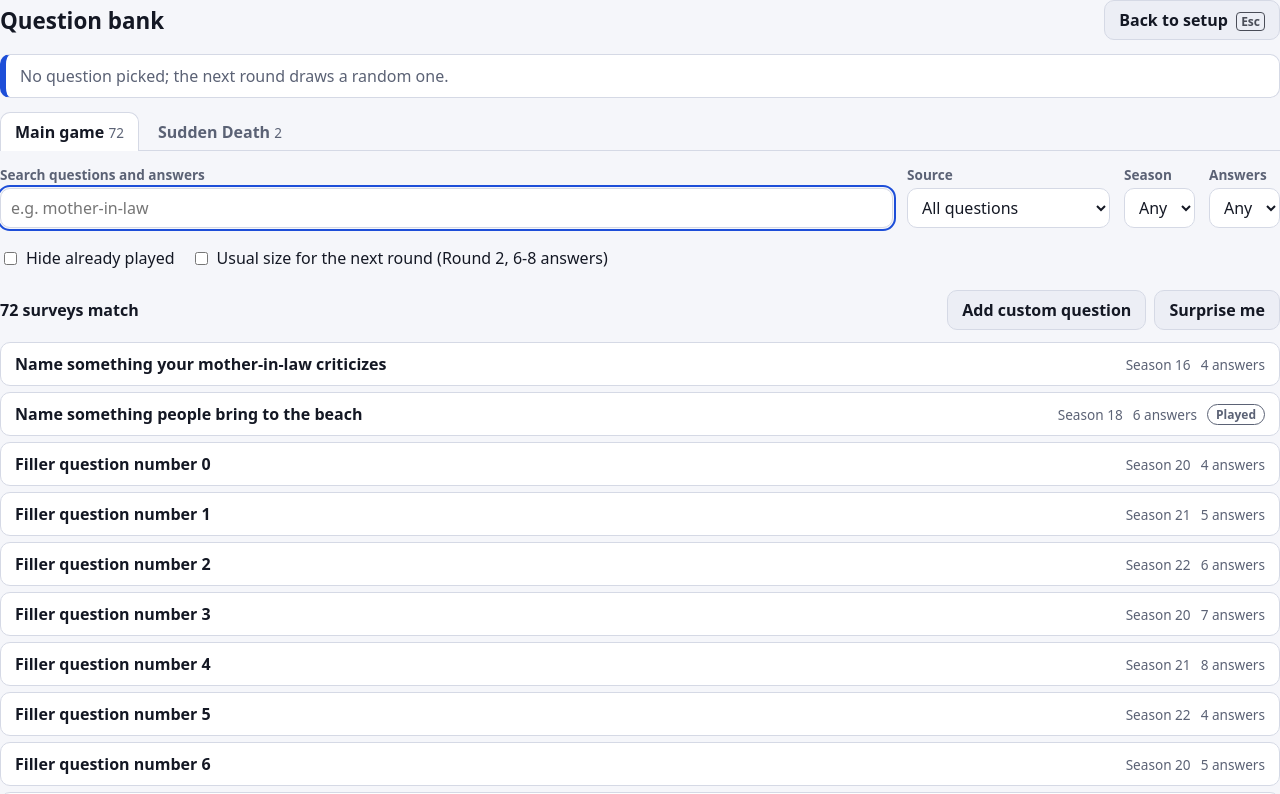
Test: QuestionBrowser › filters by season, answer count, played and fit
The image size is (1280, 794).
Select "16" in the dropdown labelled "Season". click: (1160, 208)
box: [1124,188,1195,228]
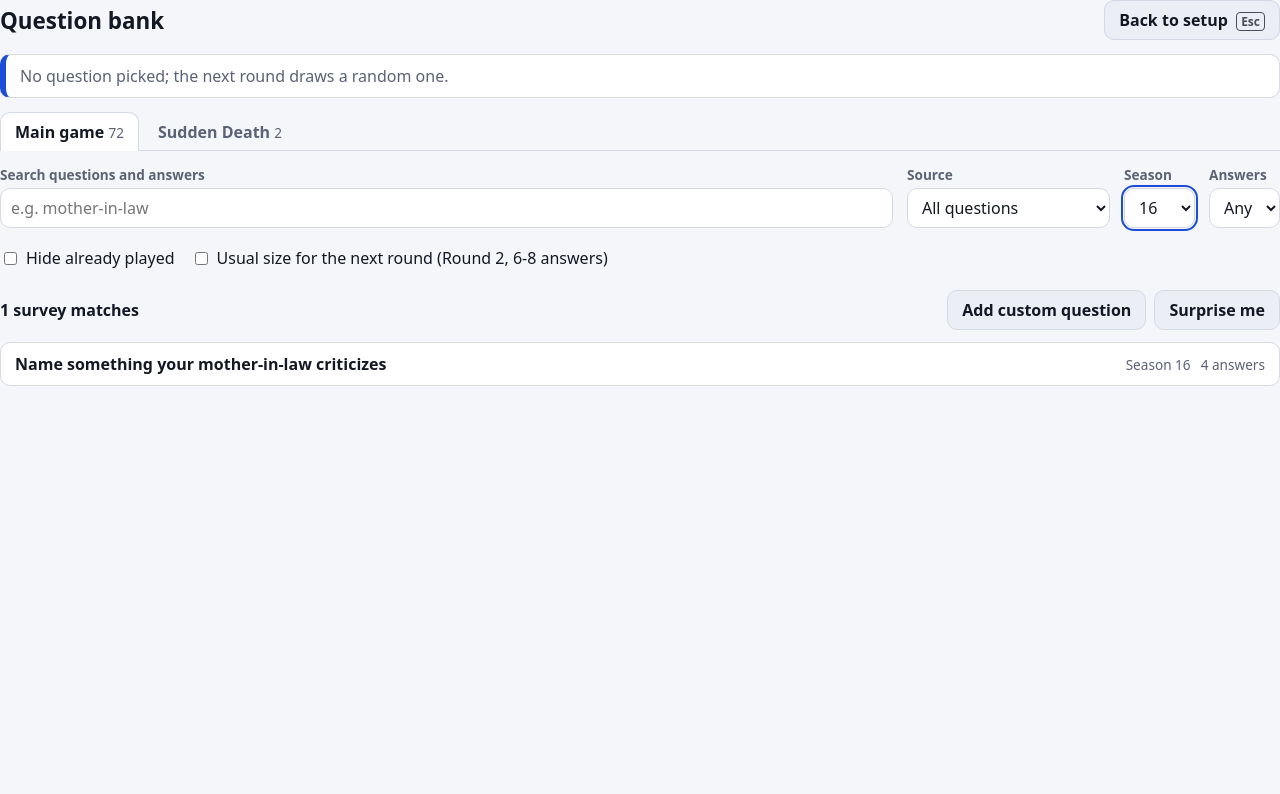
Result: the message reads "1 survey matches" at [0,299,139,321]
Select "Any" in the dropdown labelled "Season". click: (1160, 208)
box: [1124,188,1195,228]
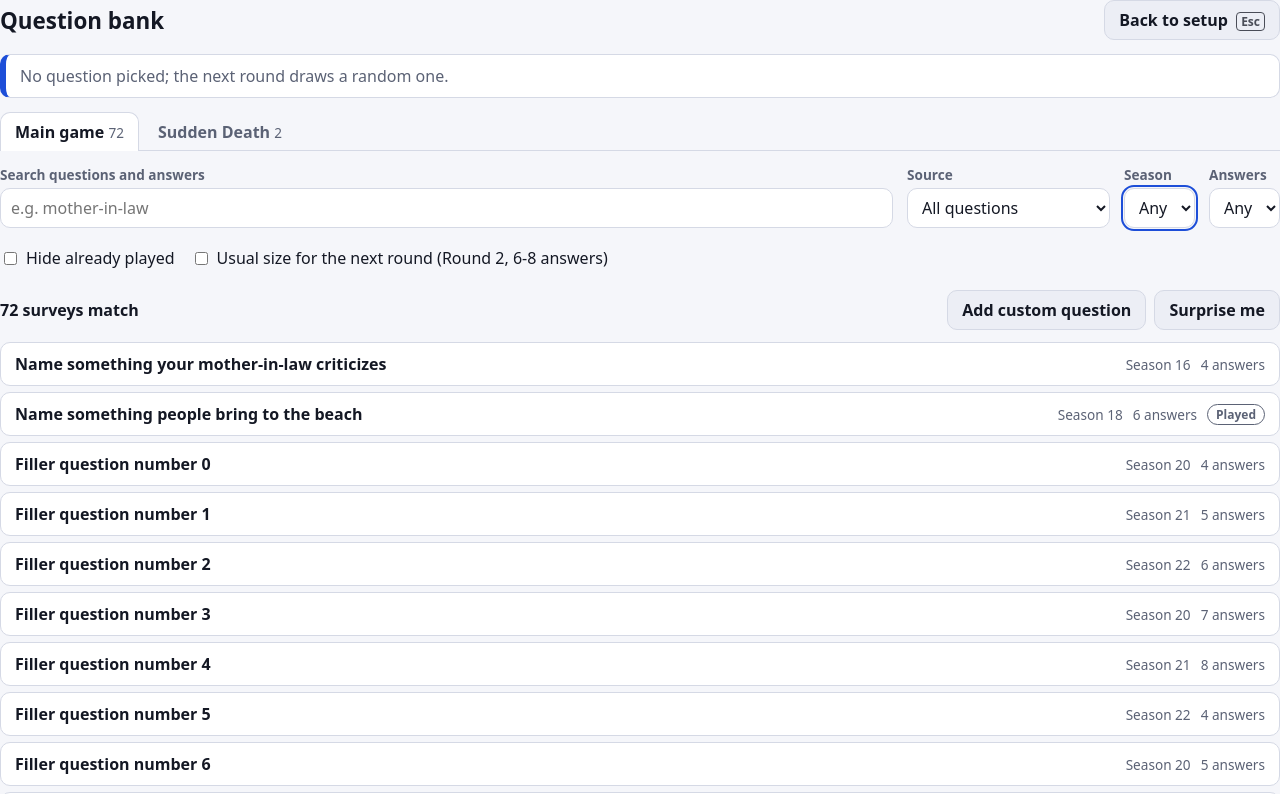
Select "6" in the dropdown labelled "Answers". click: (1244, 208)
box: [1209,188,1279,228]
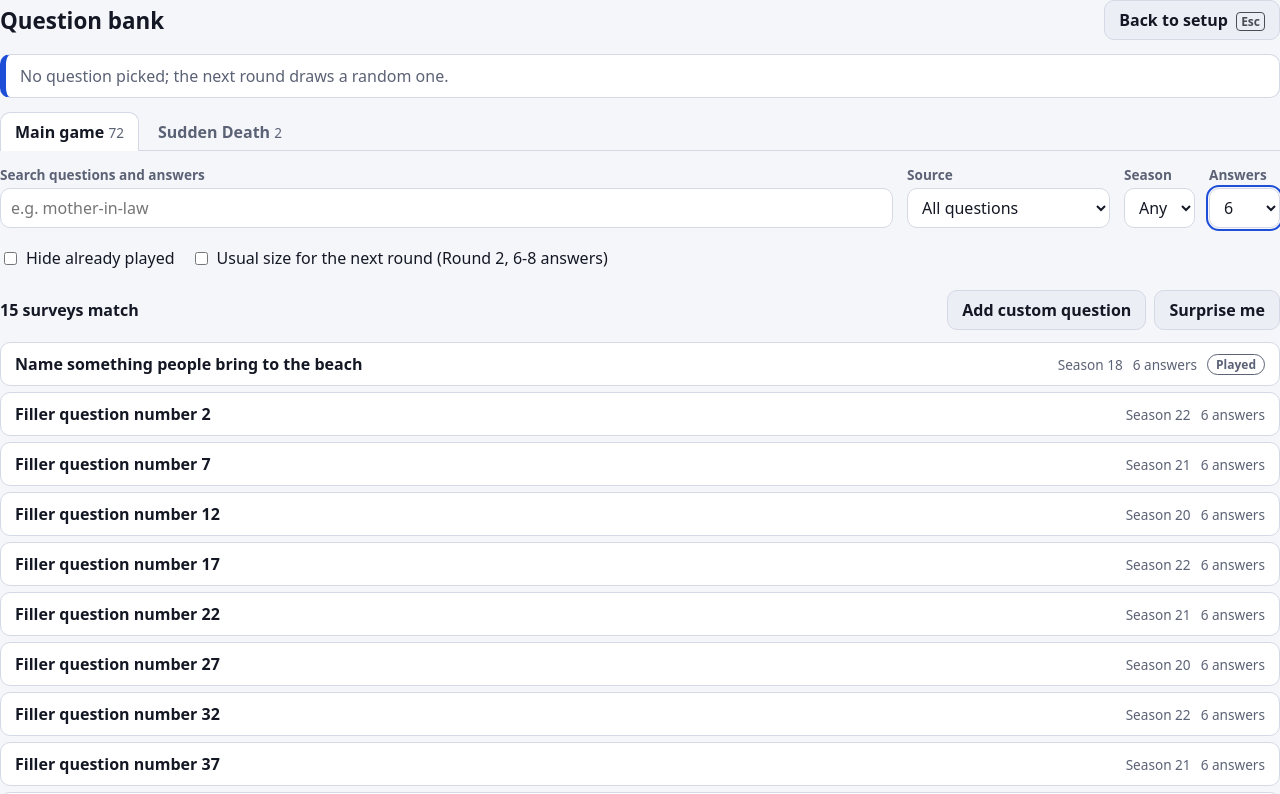
Result: the text "Played" is shown at [1207,354,1265,375]
Result: the message reads "15 surveys match" at [0,299,139,321]
Click the checkbox labelled "Hide already played". click: (10, 258)
box: [4,252,17,264]
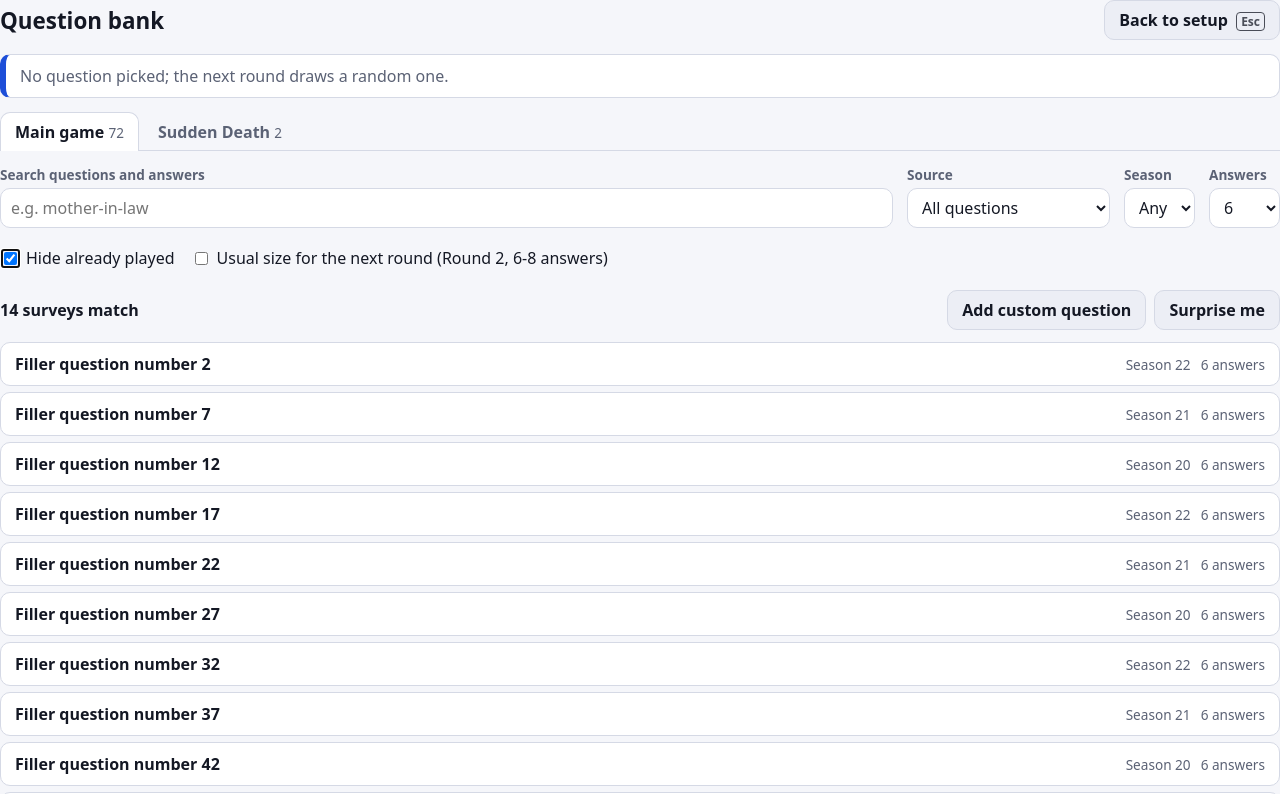
Result: the message reads "14 surveys match" at [0,299,139,321]
Select "Any" in the dropdown labelled "Answers". click: (1244, 208)
box: [1209,188,1279,228]
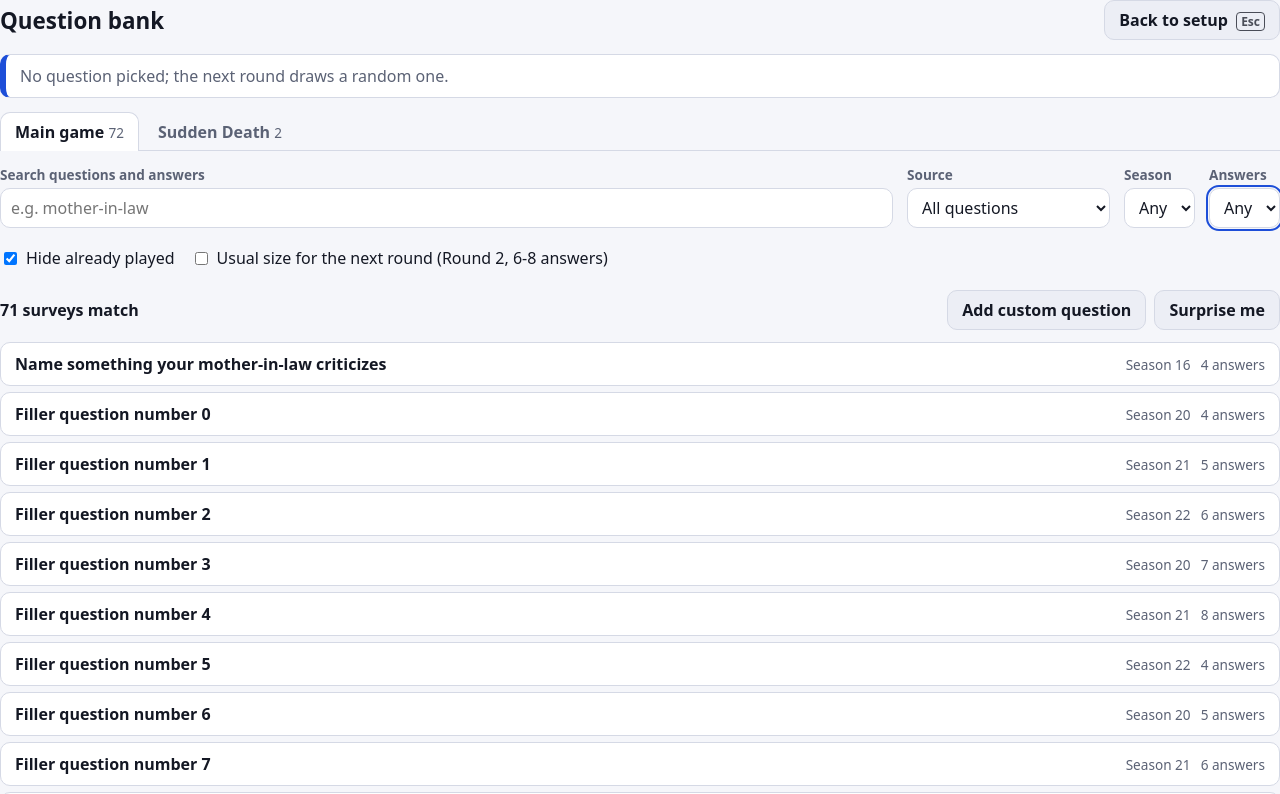
Click the checkbox labelled "Usual size for the next round (Round 2, 6-8 answers)". click: (201, 258)
box: [194,252,208,264]
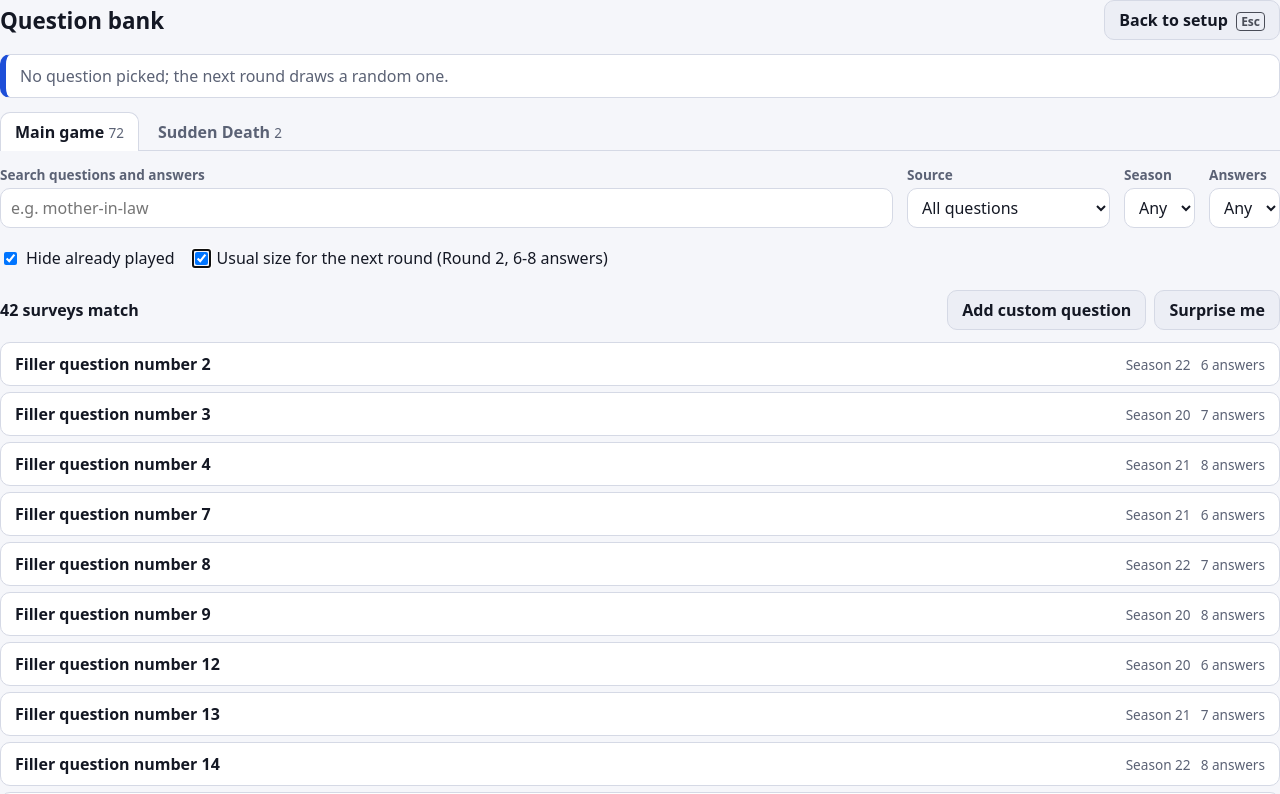
Result: the message reads "42 surveys match" at [0,299,139,321]
